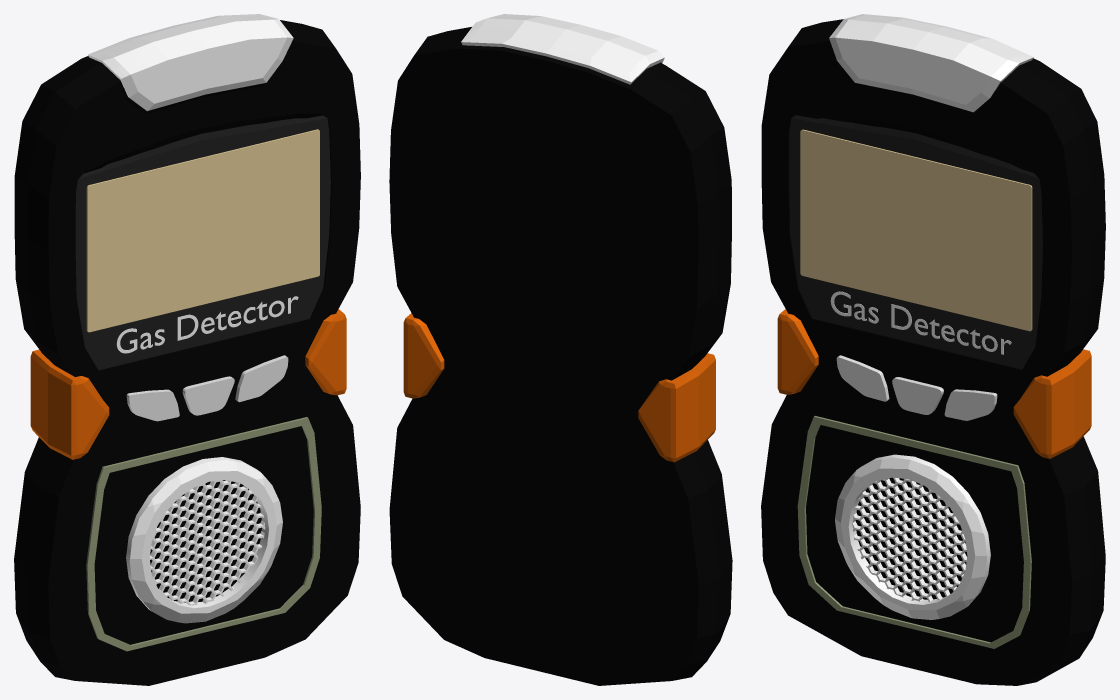
The model's file is gas-detector.glb.
3 views of the same model, side by side, from view 1: azimuth 30°, elevation 25°; view 2: azimuth 150°, elevation 25°; view 3: azimuth 330°, elevation 25° (orthographic).
Visible parts, largest first — view 1: body_0, screem_2, pannel_1, anit_8, Object_26, body.001_9, voice shell_7, Object_28, Object_30, object 4, button3_5, button2_4 (+1 smaller); view 2: body_0, body.001_9, anit_8; view 3: body_0, screem_2, pannel_1, anit_8, Object_26, body.001_9, Object_28, voice shell_7, Object_30, object 4, button1_6, button2_4 (+1 smaller).
Boxes of the visible parts, <box> form: body_0: <box>14,20,360,685</box>; screem_2: <box>86,129,319,332</box>; pannel_1: <box>75,115,330,370</box>; anit_8: <box>88,14,293,111</box>; Object_26: <box>126,457,282,623</box>; body.001_9: <box>30,309,346,459</box>; voice shell_7: <box>86,417,321,651</box>; Object_28: <box>149,480,265,605</box>; Object_30: <box>150,480,264,604</box>; object 4: <box>116,296,298,353</box>; button3_5: <box>235,355,288,402</box>; button2_4: <box>182,376,234,415</box>; body_0: <box>389,27,732,685</box>; body.001_9: <box>403,313,715,462</box>; anit_8: <box>461,14,664,84</box>; body_0: <box>761,19,1105,685</box>; screem_2: <box>800,129,1032,331</box>; pannel_1: <box>789,115,1042,369</box>; anit_8: <box>829,14,1033,112</box>; Object_26: <box>835,454,990,619</box>; body.001_9: <box>777,309,1091,458</box>; Object_28: <box>852,477,966,601</box>; voice shell_7: <box>797,416,1031,648</box>; Object_30: <box>852,478,966,600</box>; object 4: <box>830,291,1011,354</box>; button1_6: <box>836,355,889,401</box>; button2_4: <box>892,377,943,414</box>.
Bounding box in the file's own units: 0.729 × 1.4 × 0.1757.
